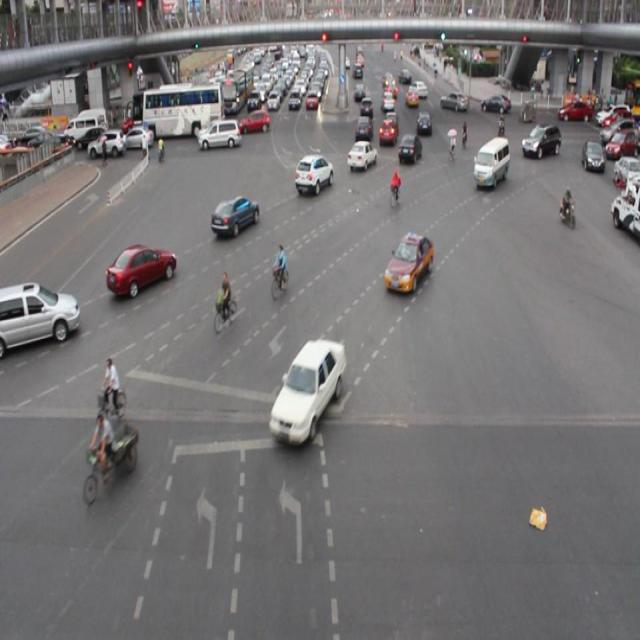car: (268, 336, 343, 439), (107, 244, 177, 295), (384, 232, 433, 292), (209, 195, 260, 239), (293, 153, 334, 197), (521, 124, 559, 159), (346, 140, 376, 172), (398, 134, 422, 165)
truck: (1, 283, 78, 350), (472, 138, 508, 188)
